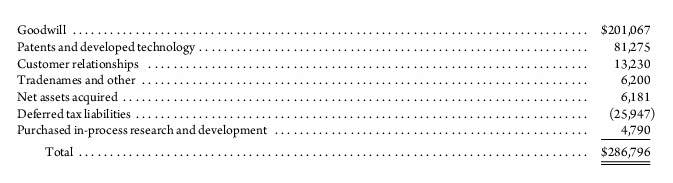table: (0, 0, 673, 183)
